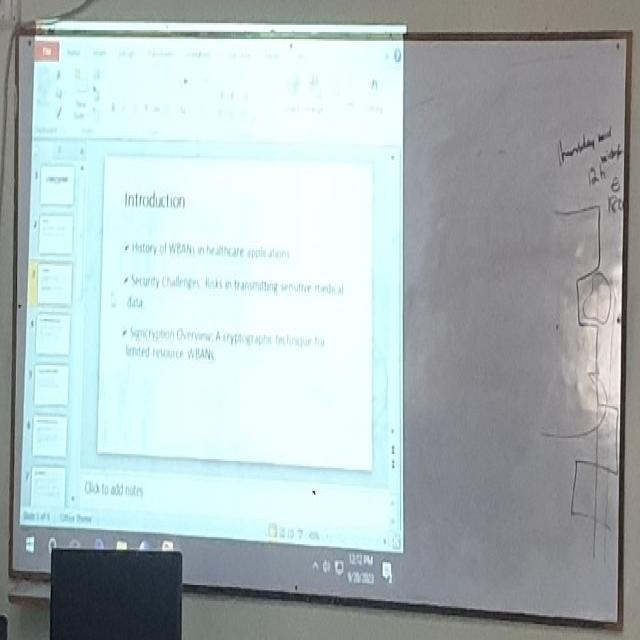Slide: (20, 22, 405, 592)
White-board: (12, 30, 629, 624)
